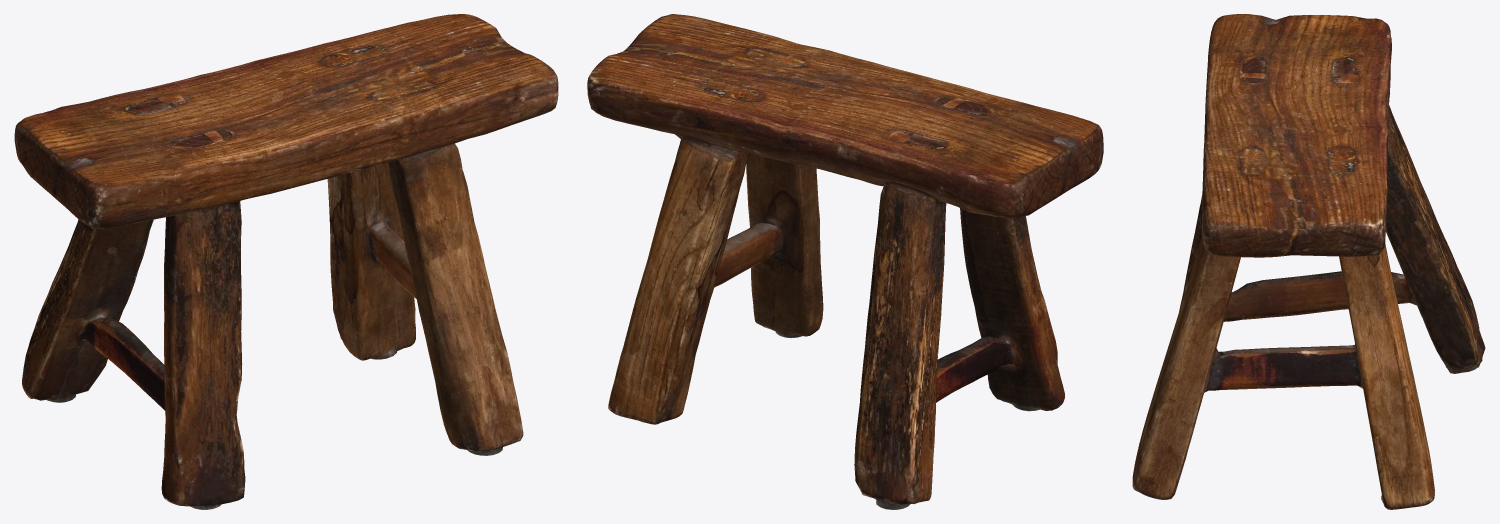
The model's file is wooden_stool_02.glb.
3 views of the same model, side by side, from view 1: azimuth 30°, elevation 25°; view 2: azimuth 150°, elevation 25°; view 3: azimuth 270°, elevation 25° (orthographic). The views are drawn at different scales.
Parts seen in each view (by area): view 1: wooden_stool_02; view 2: wooden_stool_02; view 3: wooden_stool_02.
Part boxes in pixels (left/top/right/bottom): wooden_stool_02: left=14, top=14, right=558, bottom=509; wooden_stool_02: left=587, top=14, right=1103, bottom=509; wooden_stool_02: left=1132, top=14, right=1485, bottom=509.
Size of the model in its own units: 0.2652 by 0.1819 by 0.1831.
1 material, 1 textured.
